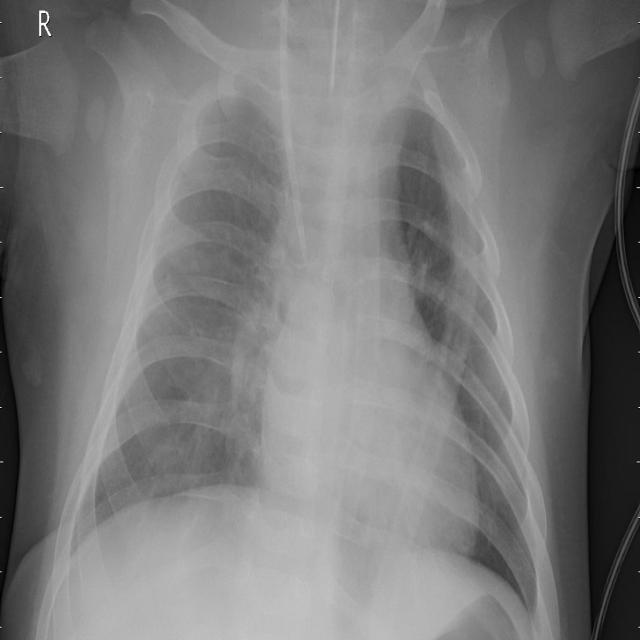low-pneumonia: (208, 198, 288, 468)
